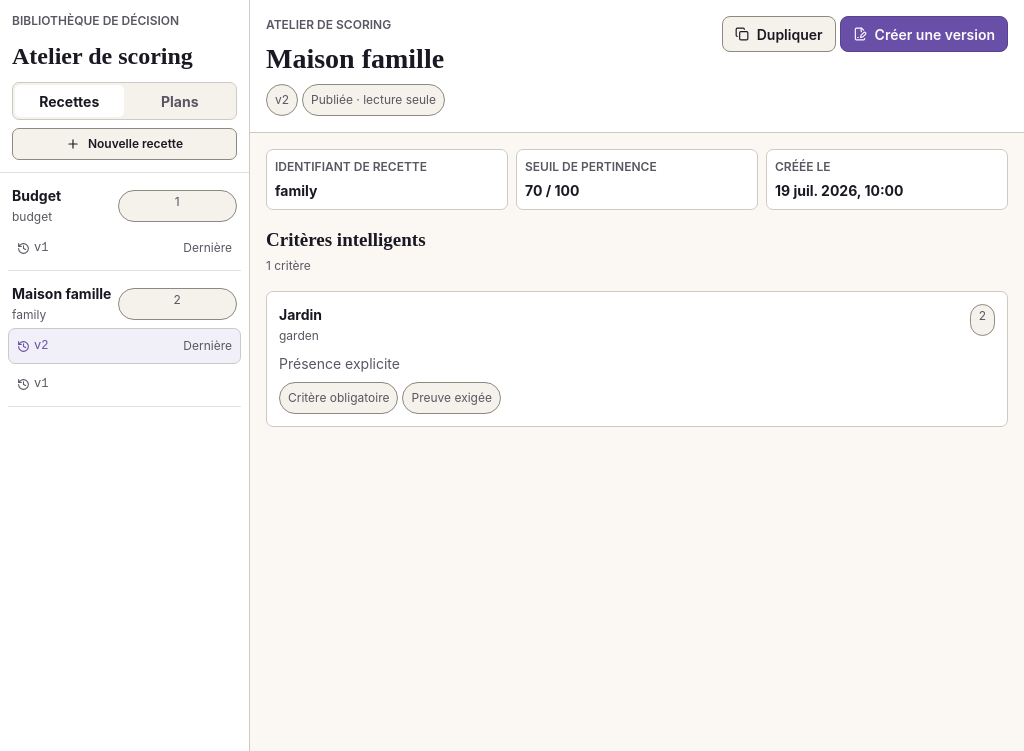
Scenario: BuilderView › keeps surviving criterion editors intact after deleting and adding criteria
The width and height of the screenshot is (1024, 751).
Expected: the heading "Maison famille" is shown, [266,38,445,80]
Click the button "Créer une version".
click(924, 34)  # box [840,16,1008,52]
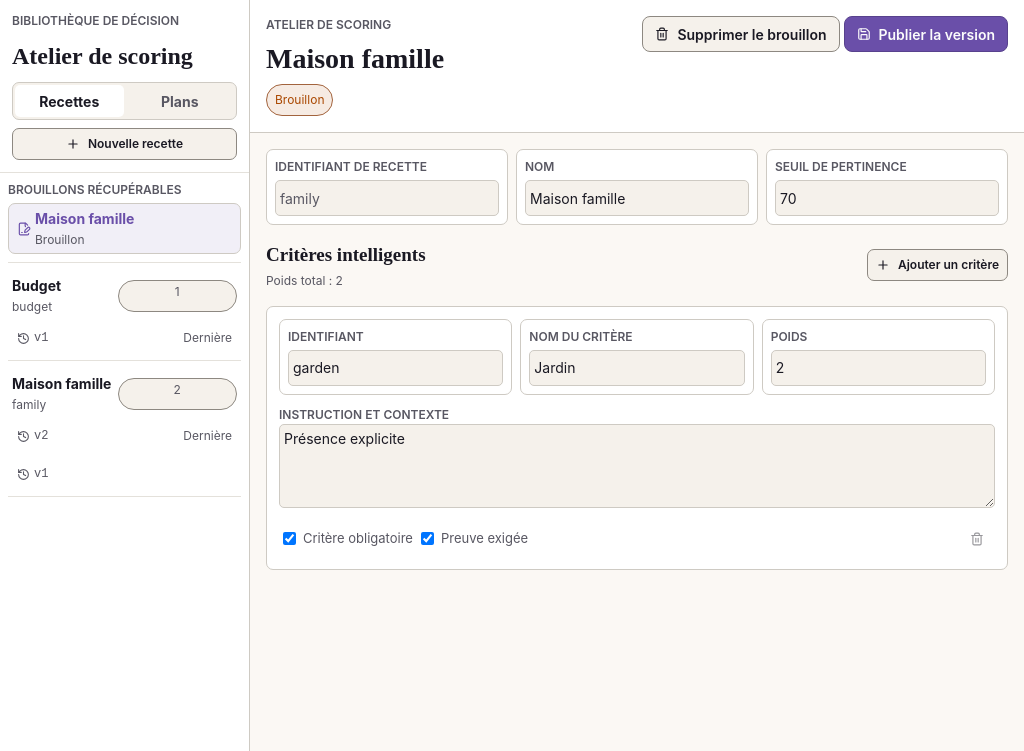
Click the button "Ajouter un critère".
click(938, 265)  # box [867,249,1008,281]
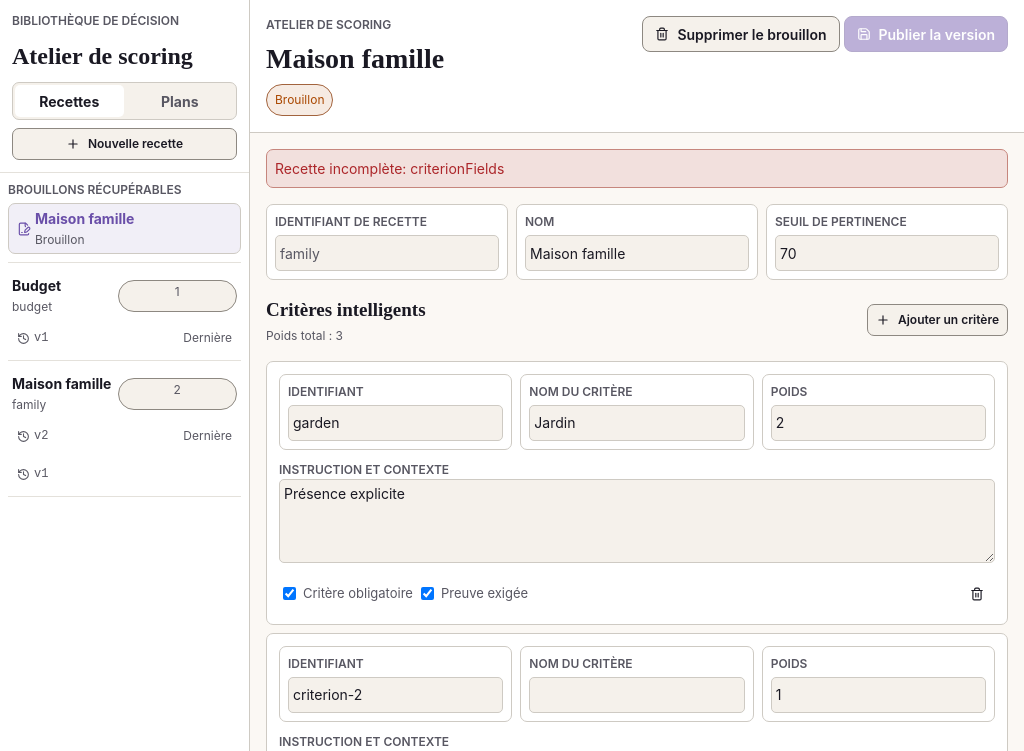
Replace the text in the 2nd field labelled "Identifiant" with "near-coast" at (396, 694), box [288,676,503,712]
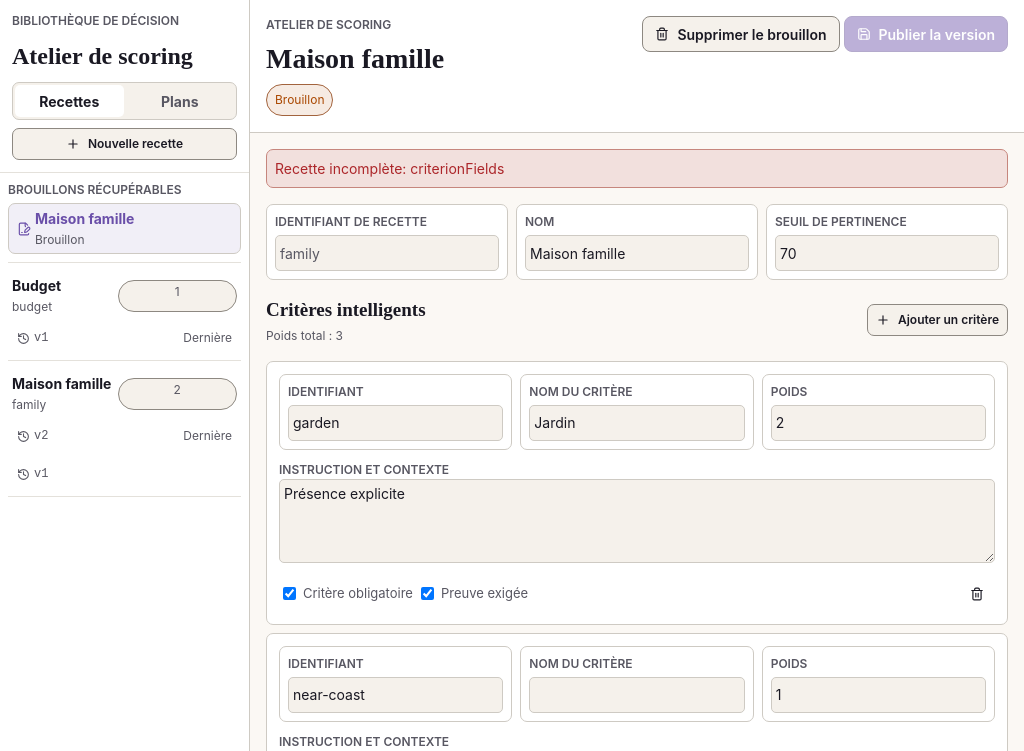
Click the button named "Supprimer le critère Jardin".
click(977, 594)  # box [959,576,995,612]
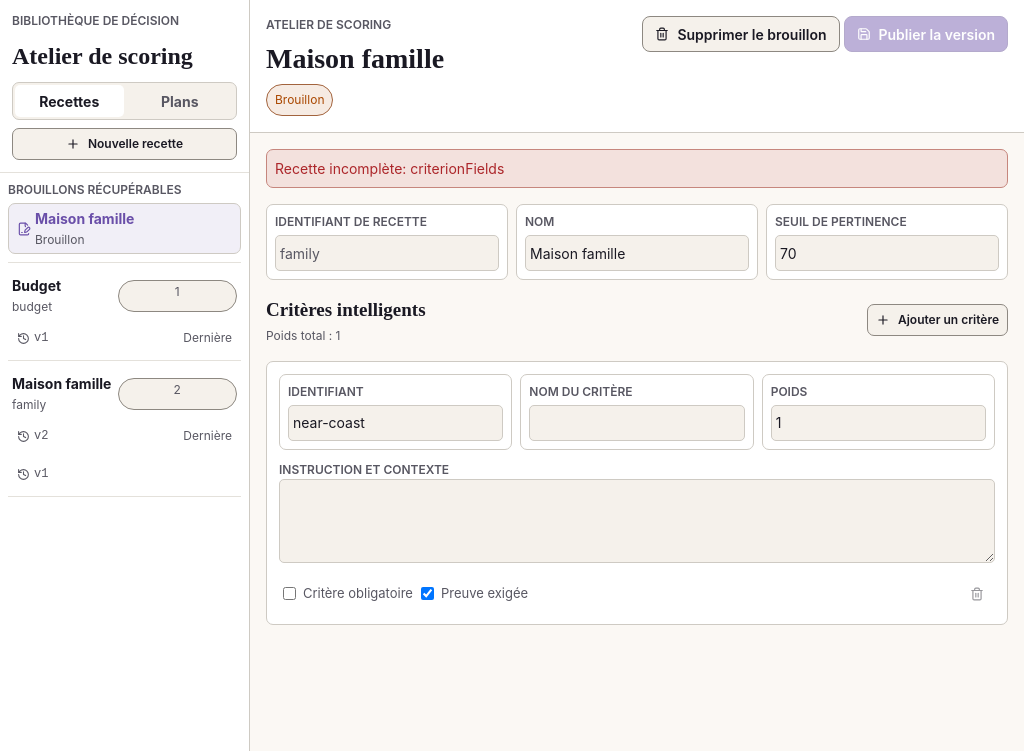
Click the button "Ajouter un critère".
click(938, 320)  # box [867,304,1008,336]
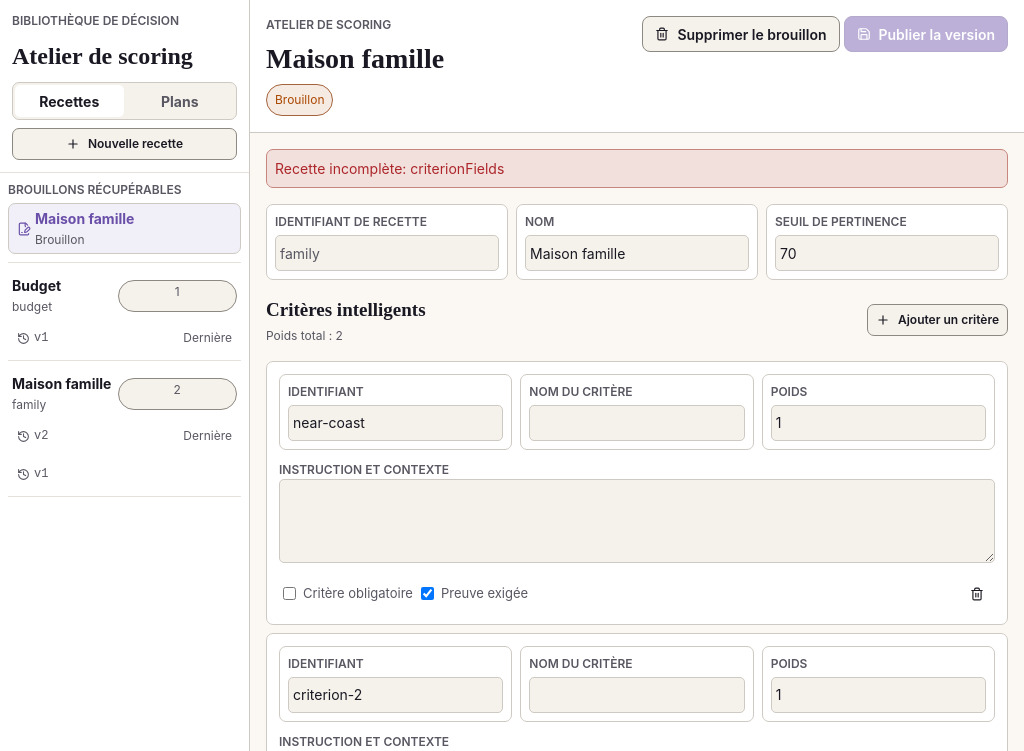
Expected: the number of fields labelled "Identifiant" is 2, [288,404,503,440]; [288,676,503,712]
